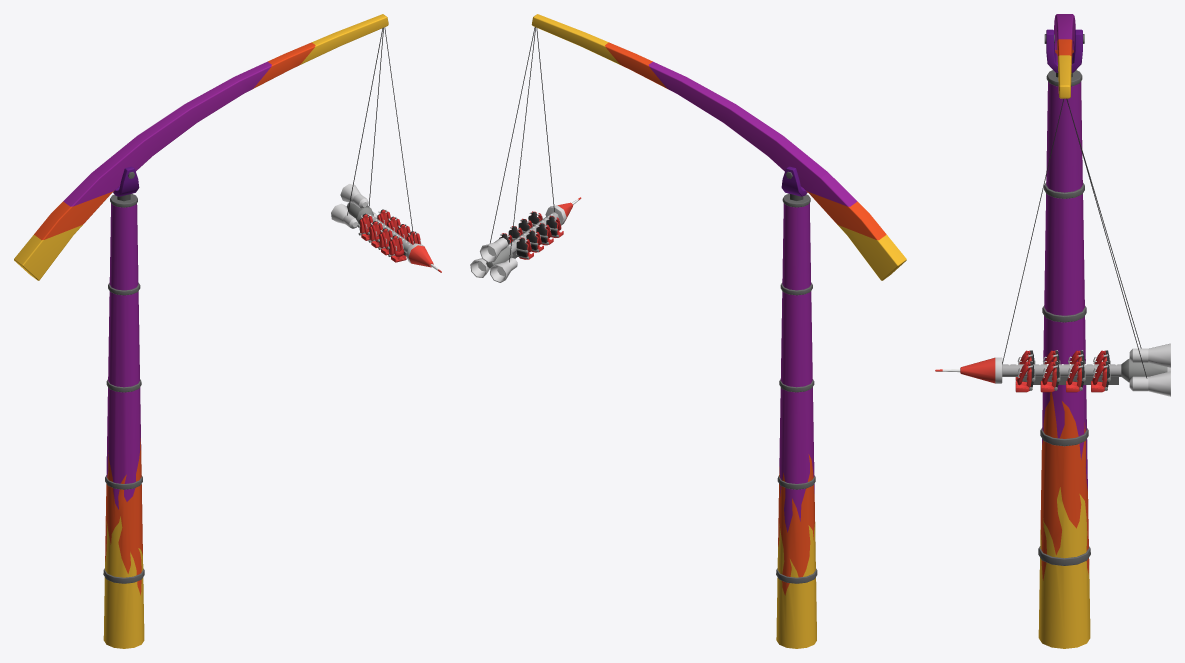
File: attraction_2_001.gltf
3 renders of one model, left to right at view 1: azimuth 30°, elevation 25°; view 2: azimuth 150°, elevation 25°; view 3: azimuth 270°, elevation 25°, orthographic. The views are drawn at different scales.
Visible parts, largest first — view 1: attraction_2_001, attraction_2_002, attraction_2_003; view 2: attraction_2_001, attraction_2_002, attraction_2_003; view 3: attraction_2_001, attraction_2_003, attraction_2_002.
Part boxes in pixels (x1,y1,x2,y2): attraction_2_001: (103, 166, 144, 648); attraction_2_002: (14, 14, 388, 280); attraction_2_003: (331, 27, 441, 272); attraction_2_001: (776, 166, 817, 648); attraction_2_002: (531, 14, 906, 280); attraction_2_003: (470, 27, 581, 282); attraction_2_001: (1038, 29, 1090, 648); attraction_2_003: (935, 98, 1170, 396); attraction_2_002: (1044, 14, 1084, 98).
Size of the model in its own units: 35.14 by 48.25 by 14.43.
Materials: 2 (1 with a texture image).
